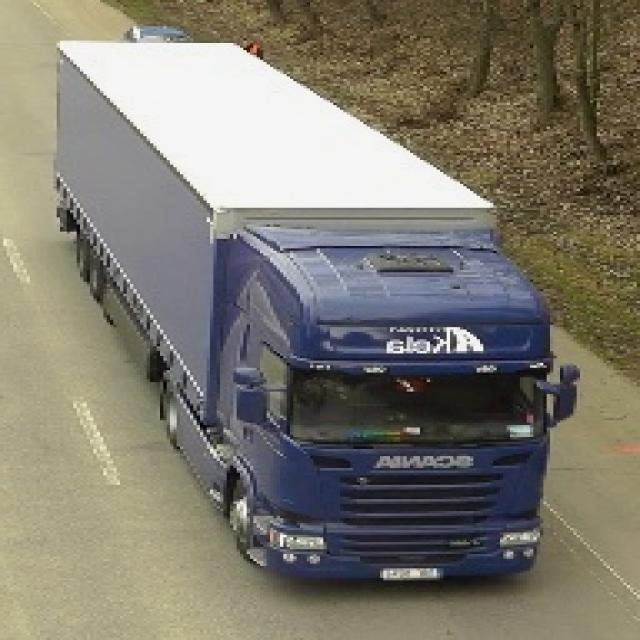TRUCK: (170, 198, 557, 600)
